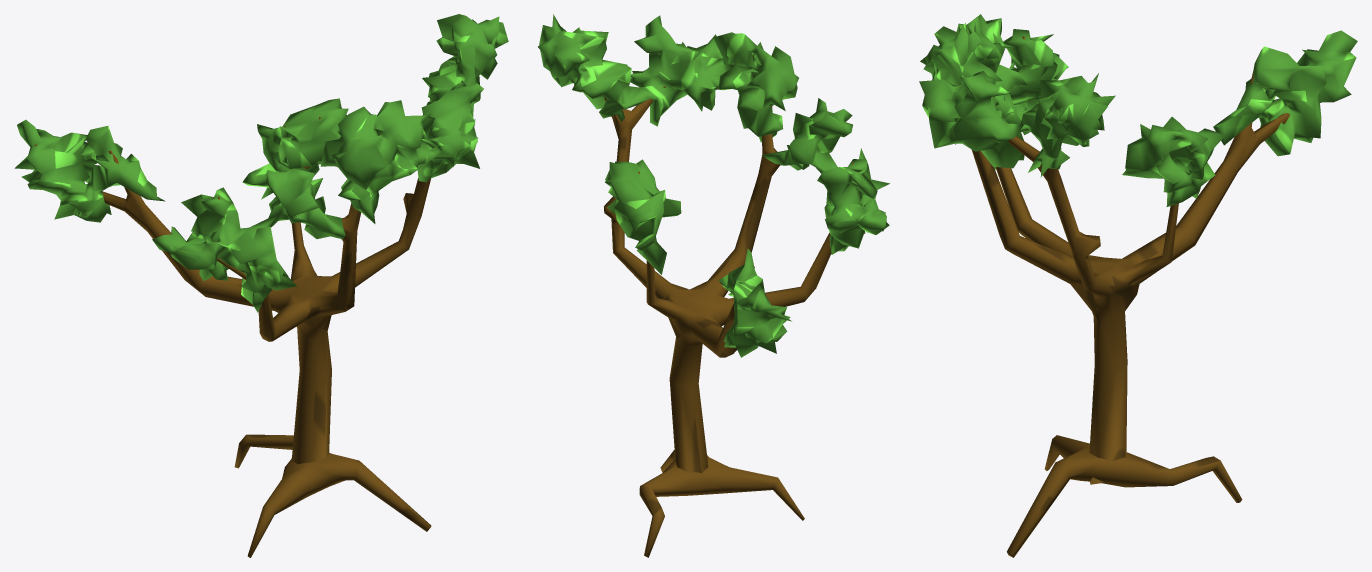
Rendered from arbol2DecLow.fbx.
3 views of the same model, side by side, from view 1: azimuth 30°, elevation 25°; view 2: azimuth 150°, elevation 25°; view 3: azimuth 270°, elevation 25° (orthographic). The views are drawn at different scales.
Parts seen in each view (by area): view 1: Vert.005; view 2: Vert.005; view 3: Vert.005.
Part boxes in pixels (box(x1,y1,x2,y2)): Vert.005: box(14, 14, 508, 557); Vert.005: box(538, 14, 889, 557); Vert.005: box(919, 14, 1357, 557).
Size of the model in its own units: 967 by 1167 by 898.
Materials: 2 (2 with a texture image).
